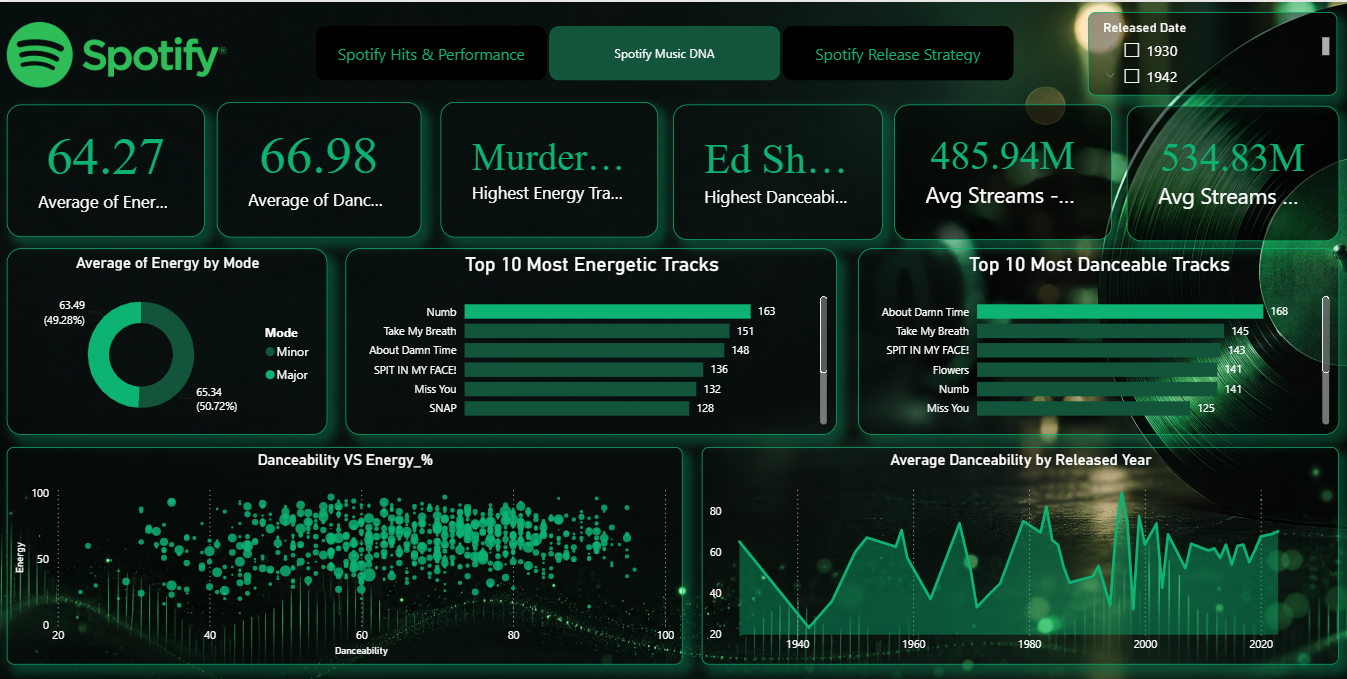

Layout of this report page (visuals, bound fields, positions):
{"tool":"powerbi","page":{"name":"Spotify Music DNA","canvas":[1500,753],"ordinal":1},"visuals":[{"type":"image","box":[10,1.4,244.3,114.3],"z":0},{"type":"cardVisual","fields":{"Data":["Avg(spotify-2023.energy_%)"]},"box":[9.7,111,244.3,149.9],"z":1},{"type":"cardVisual","fields":{"Data":["Avg(spotify-2023.danceability_%)"]},"box":[270.6,115.2,274.8,149.9],"z":2},{"type":"cardVisual","fields":{"Data":["spotify-2023.Highest Energy Track"]},"box":[559.3,115.2,272,149.9],"z":3},{"type":"cardVisual","fields":{"Data":["spotify-2023.Highest Danceability Track"]},"box":[842,116,312,150],"z":5},{"type":"scatterChart","title":"Danceability VS Energy_%","fields":{"Size":["Sum(spotify-2023.Streams)"],"X":["Sum(spotify-2023.danceability_%)"],"Y":["Sum(spotify-2023.energy_%)"]},"box":[10,494.3,750,241.4],"z":7},{"type":"donutChart","title":"Tracks by Mode","fields":{"Category":["spotify-2023.Mode"],"Y":["Count(Fact Track.Track Name)"]},"box":[10,272.9,355.7,207.1],"z":8},{"type":"lineChart","fields":{"Category":["spotify-2023.Released Year"],"Y":["Avg(spotify-2023.danceability_%)"]},"box":[781.4,494.3,707.1,241.4],"z":9},{"type":"clusteredBarChart","title":"Top 5 Most Energetic Tracks","fields":{"Category":["spotify-2023.Track Name"],"Y":["Sum(spotify-2023.energy_%)"]},"box":[385.7,272.9,545.7,207.1],"z":10},{"type":"clusteredBarChart","title":"Top 5 Most Danceable Tracks","fields":{"Category":["spotify-2023.Track Name"],"Y":["Sum(spotify-2023.danceability_%)"]},"box":[954.3,272.9,534.3,207.1],"z":11},{"type":"pageNavigator","box":[352.9,25.7,775.7,61.4],"z":12},{"type":"slicer","title":"Released Date","fields":{"Values":["Fact Track.Released Year Hierarchy.Released Year","Fact Track.Released Year Hierarchy.Released Month","Fact Track.Released Year Hierarchy.Released Day"]},"box":[1202.9,11.4,277.1,92.9],"z":13},{"type":"cardVisual","fields":{"Data":["spotify-2023.Top Song Type"]},"box":[1176,118,312,148],"z":14},{"type":"image","box":[187.4,118,69.4,54.1],"z":15},{"type":"image","box":[478.8,130.5,51.4,40.2],"z":16},{"type":"image","box":[759.2,130.5,59.7,41.6],"z":17},{"type":"image","box":[1095,129.1,59.7,41.6],"z":18},{"type":"image","box":[1428.1,124.9,59.7,41.6],"z":19}]}

Visuals, with their boxes in screenshot pixels (x1, y1, x2, y2), scaled from the page's 1500x753 canvas onto the 1347x679 screenshot:
image: [9, 1, 228, 104]
cardVisual - Avg(spotify-2023.energy_%): [9, 100, 228, 235]
cardVisual - Avg(spotify-2023.danceability_%): [243, 104, 490, 239]
cardVisual - spotify-2023.Highest Energy Track: [502, 104, 747, 239]
cardVisual - spotify-2023.Highest Danceability Track: [756, 105, 1036, 240]
"Danceability VS Energy_%" scatterChart: [9, 446, 682, 663]
"Tracks by Mode" donutChart: [9, 246, 328, 433]
lineChart - spotify-2023.Released Year x Avg(spotify-2023.danceability_%): [702, 446, 1337, 663]
"Top 5 Most Energetic Tracks" clusteredBarChart: [346, 246, 836, 433]
"Top 5 Most Danceable Tracks" clusteredBarChart: [857, 246, 1337, 433]
pageNavigator: [317, 23, 1013, 79]
"Released Date" slicer: [1080, 10, 1329, 94]
cardVisual - spotify-2023.Top Song Type: [1056, 106, 1336, 240]
image: [168, 106, 231, 155]
image: [430, 118, 476, 154]
image: [682, 118, 735, 155]
image: [983, 116, 1037, 154]
image: [1282, 113, 1336, 150]
